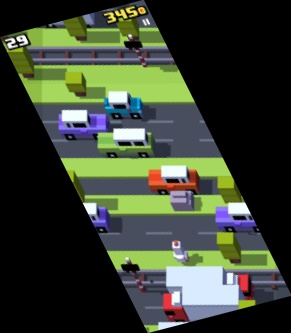car: (97, 128, 157, 157), (59, 109, 111, 141), (148, 166, 199, 198), (216, 203, 268, 233), (64, 202, 110, 232), (104, 91, 145, 120)
duck: (170, 241, 191, 263)
light off: (121, 257, 148, 294), (123, 34, 150, 69)
rail: (1, 45, 179, 68), (113, 268, 290, 290)
rock: (168, 191, 195, 212)
tree: (3, 40, 36, 78), (61, 7, 88, 43), (216, 232, 243, 265), (218, 177, 242, 208), (238, 300, 259, 325), (65, 72, 85, 96)
truck: (167, 266, 256, 306), (162, 286, 245, 321), (24, 1, 95, 29)
